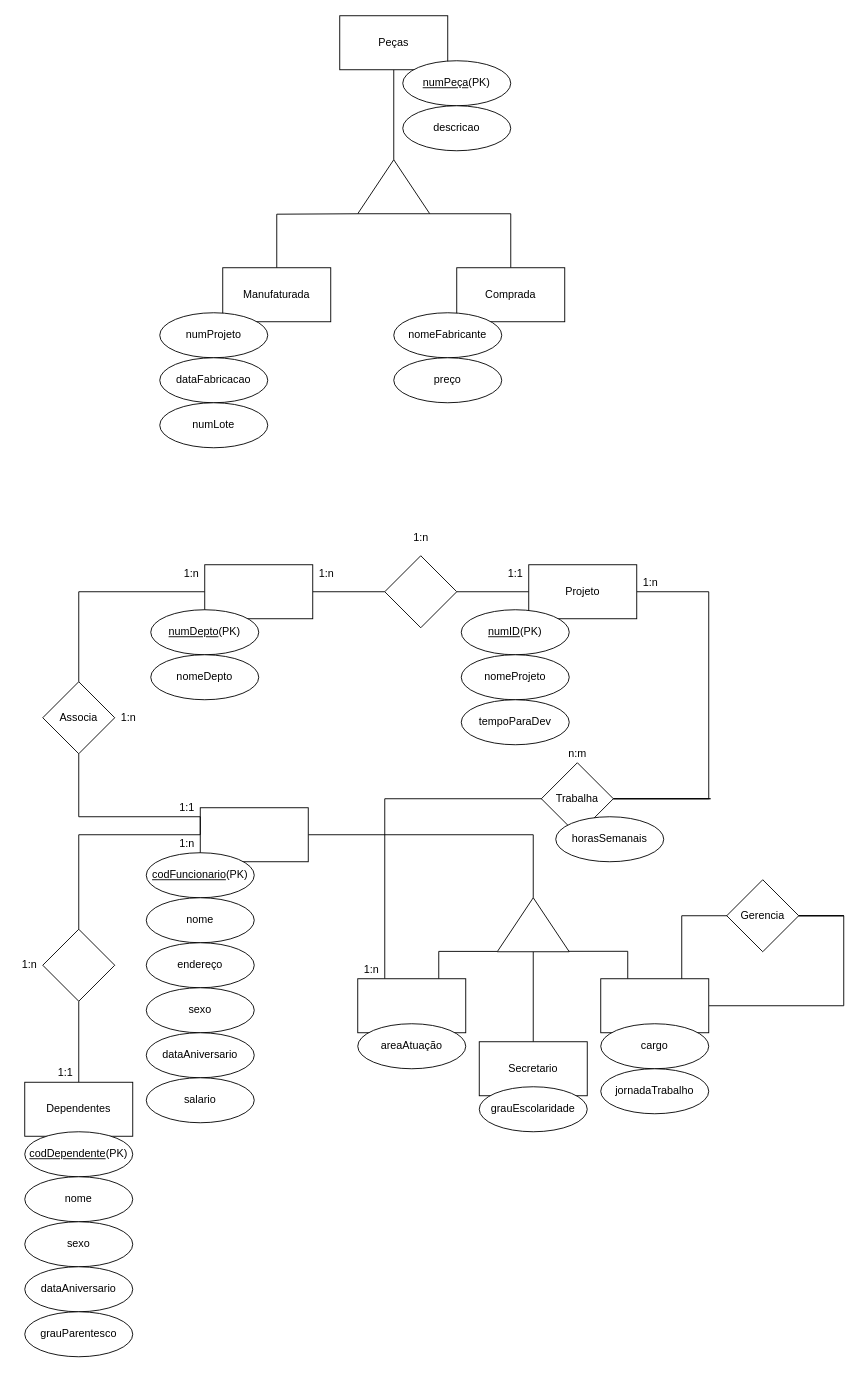
This 860x1373 diagram has some shape labels left out. Here are the shapes that lost their labels. From the top down, the centre of each, then its label:
At pixel 258 591: "Departamento".
At pixel 420 591: "Controla".
At pixel 253 834: "Funcionarios".
At pixel 78 964: "Possui".
At pixel 411 1005: "Pesquisador".
At pixel 654 1005: "Limpeza".
